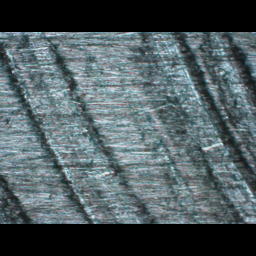d: (0, 32, 156, 221), (145, 33, 254, 223)
